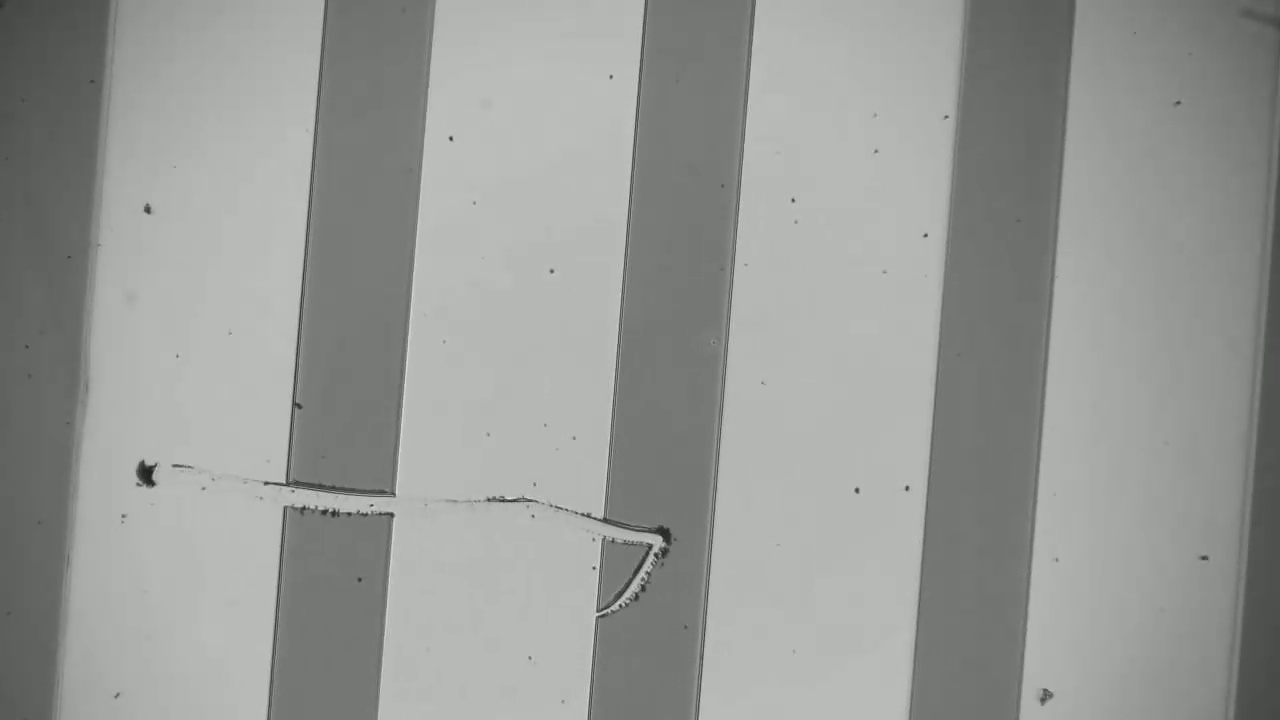Short_circuit: (263, 462, 420, 532), (586, 513, 740, 573)
